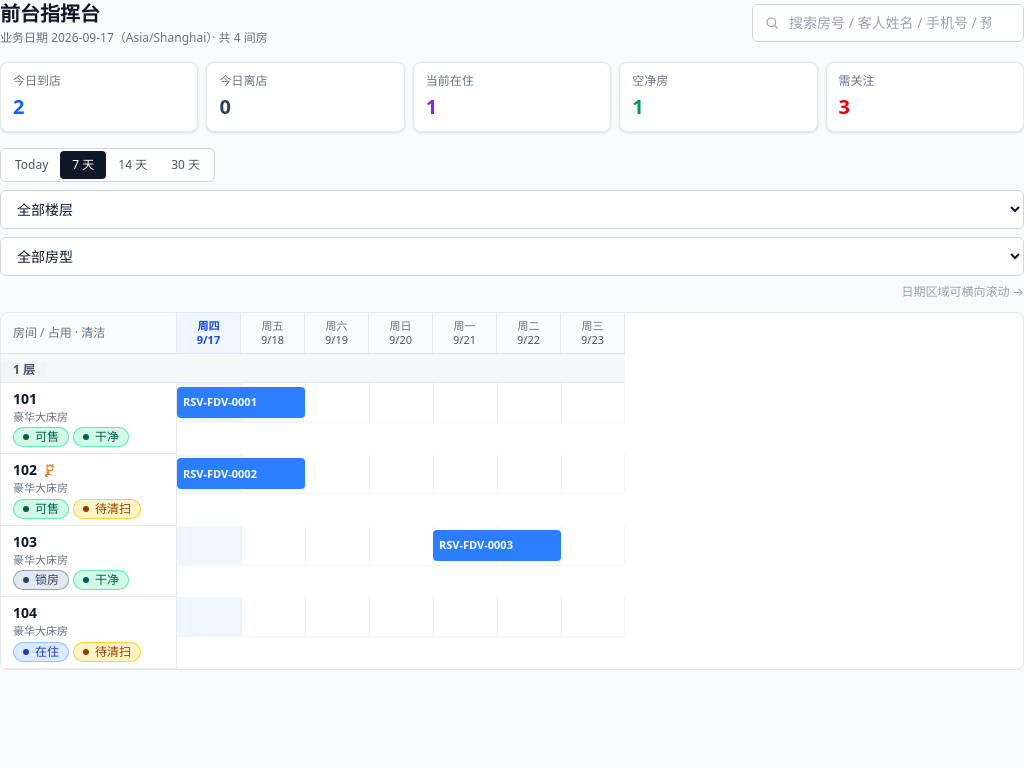
it: Reservation Drawer › PII：无 guest:read 时抽屉显示 ID 而非姓名
Expected: the button "需关注 3" is shown, [826,62,1023,132]
What coordinates should you click on to do the following:
click the button "RSV-FDV-0001"
I would click on:
 (241, 402)
Its box is [177,386,305,418].
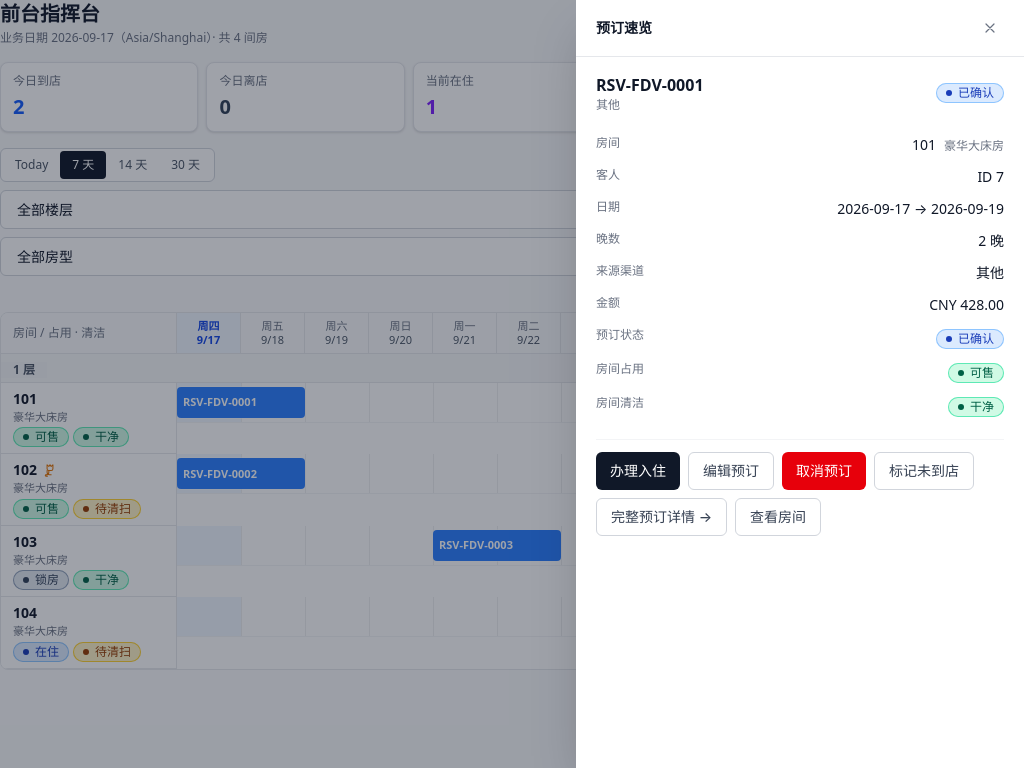
Now the text "ID 7" is shown, box [977,167,1004,187]
